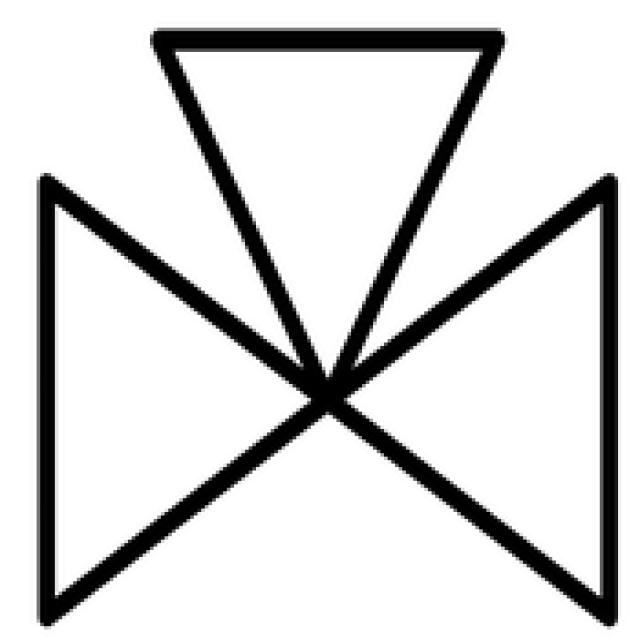3-way Valve: (44, 178, 327, 611), (328, 181, 610, 615), (160, 37, 496, 387)
